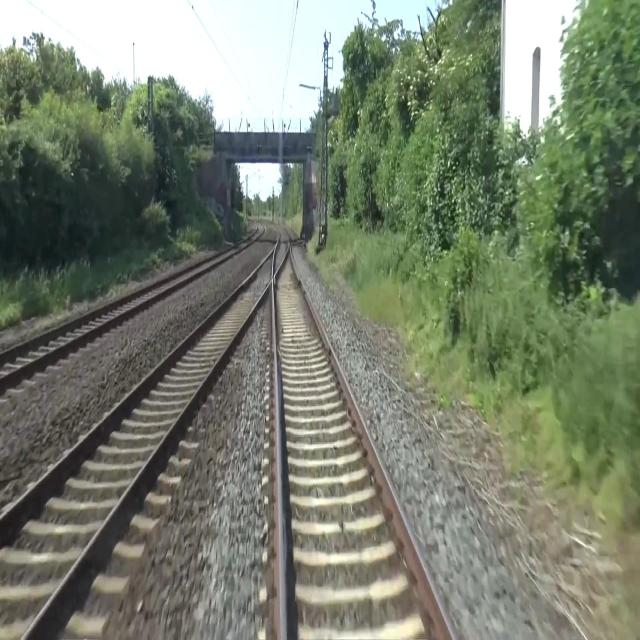rail-track: (0, 247, 275, 639), (273, 243, 456, 639), (0, 217, 263, 375)
